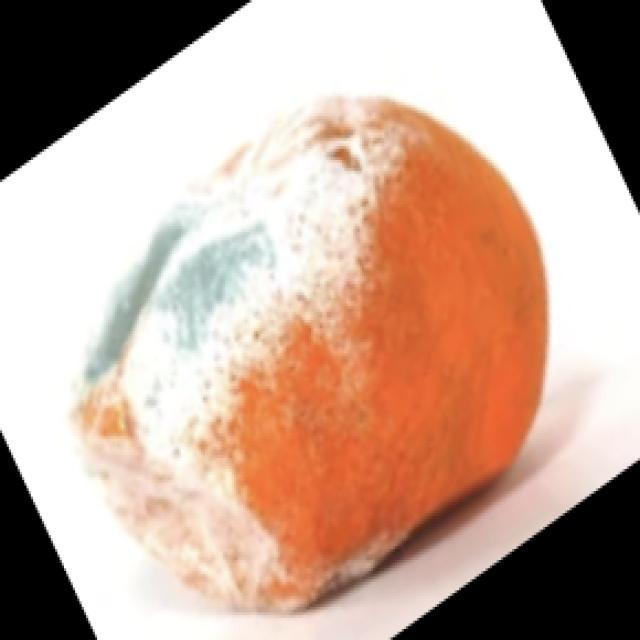sangat-busuk: (74, 97, 547, 611), (74, 109, 376, 611)
